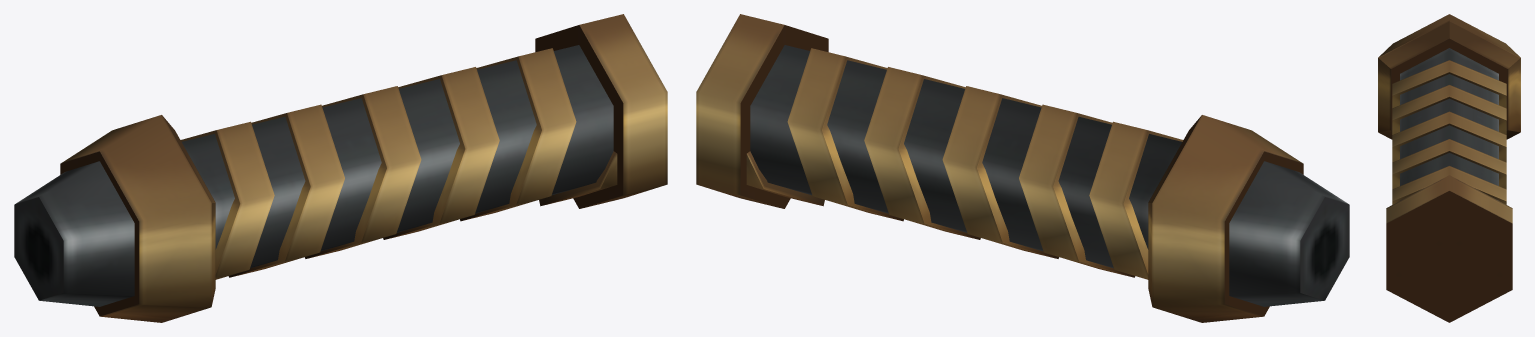
The model's file is Legend_SpiralBuncher_4_Mod.FBX.
3 views of the same model, side by side, from view 1: azimuth 30°, elevation 25°; view 2: azimuth 150°, elevation 25°; view 3: azimuth 270°, elevation 25° (orthographic). The views are drawn at different scales.
Visible parts, largest first — view 1: Legend_SpiralBuncher_4_Mod; view 2: Legend_SpiralBuncher_4_Mod; view 3: Legend_SpiralBuncher_4_Mod.
Part boxes in pixels (left/top/right/bottom): Legend_SpiralBuncher_4_Mod: left=14, top=14, right=667, bottom=322; Legend_SpiralBuncher_4_Mod: left=696, top=14, right=1349, bottom=322; Legend_SpiralBuncher_4_Mod: left=1378, top=14, right=1520, bottom=322.
Size of the model in its own units: 23.66 by 8.05 by 6.97.
